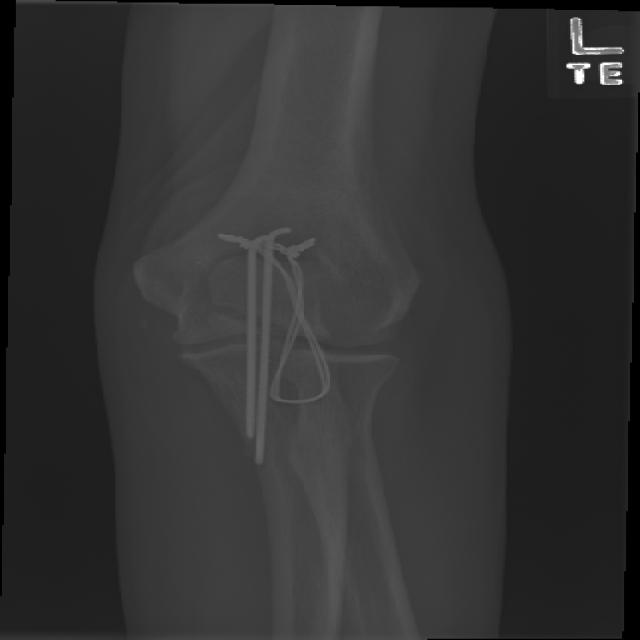elbow positive: (153, 265, 352, 359)
